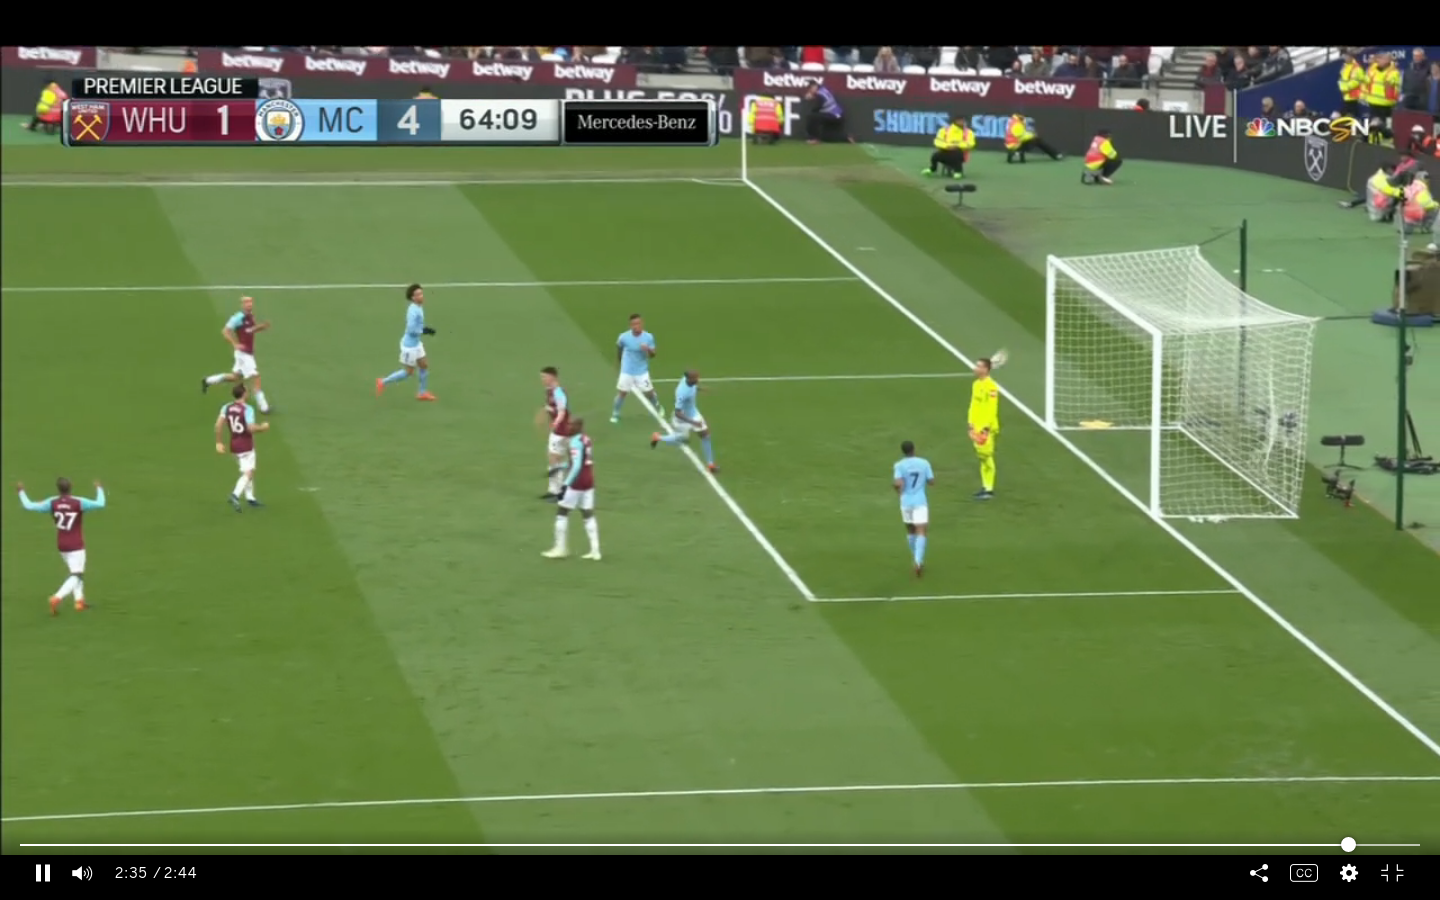soccer player: (13, 471, 116, 625), (875, 437, 945, 579), (547, 414, 610, 566), (202, 289, 279, 412), (953, 354, 1012, 505), (647, 371, 727, 479), (372, 283, 439, 402), (604, 309, 667, 434), (213, 383, 268, 514), (533, 360, 573, 500)
